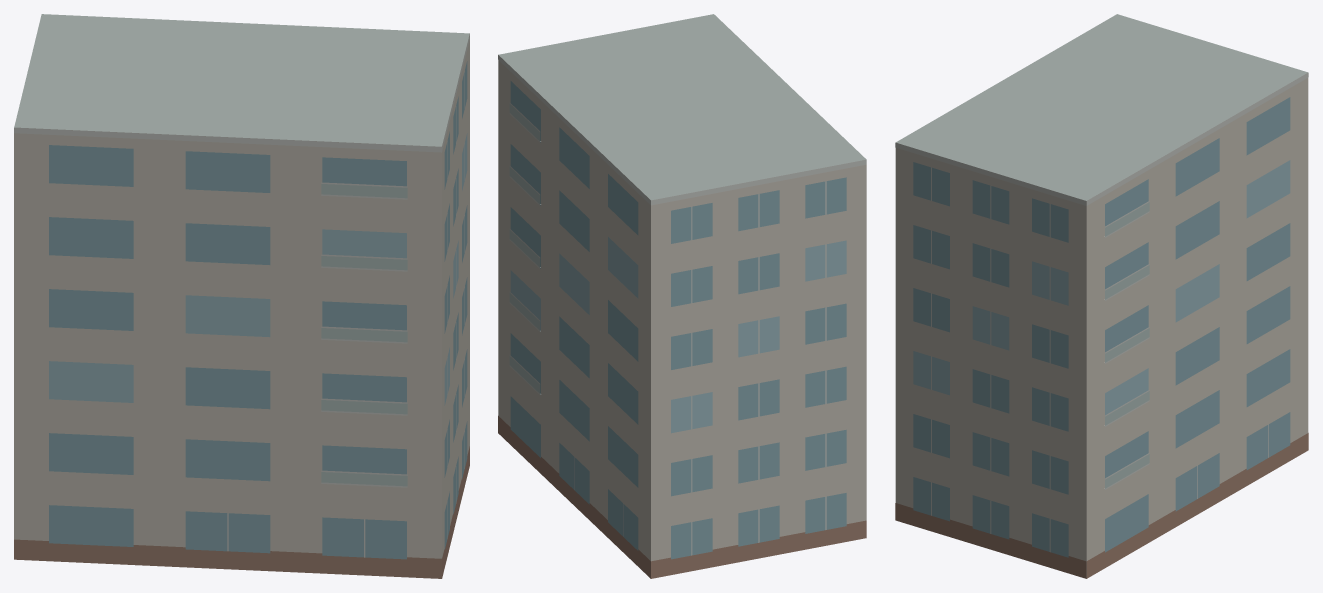
Rendered from survey-upis-32552230.glb.
3 renders of one model, left to right at view 1: azimuth 30°, elevation 25°; view 2: azimuth 150°, elevation 25°; view 3: azimuth 270°, elevation 25°, orthographic. The views are drawn at different scales.
Visible parts, largest first — view 1: survey-upis-32552230.tmp; view 2: survey-upis-32552230.tmp; view 3: survey-upis-32552230.tmp.
Part boxes in pixels (x1,y1,x2,y2): survey-upis-32552230.tmp: [14, 14, 469, 578]; survey-upis-32552230.tmp: [498, 14, 866, 578]; survey-upis-32552230.tmp: [895, 14, 1308, 578].
Size of the model in its own units: 19.43 by 18.3 by 18.13.
